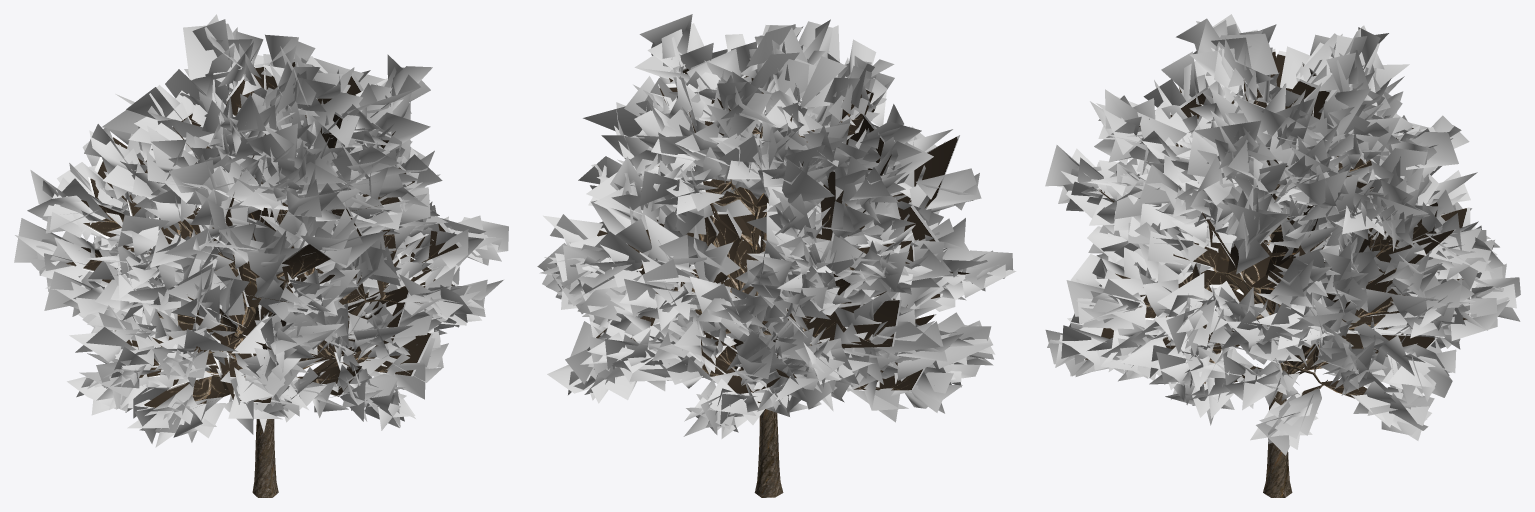
File: Tree03.fbx
The picture shows the model from 3 angles, left to right: view 1: azimuth 30°, elevation 25°; view 2: azimuth 150°, elevation 25°; view 3: azimuth 270°, elevation 25°; orthographic projection. The views are drawn at different scales.
Visible parts, largest first — view 1: Leaf_6, Bark_9; view 2: Leaf_6, Bark_9; view 3: Leaf_6, Bark_9.
Part boxes in pixels (bbox=[...]): Leaf_6: bbox=[14, 14, 508, 447]; Bark_9: bbox=[210, 209, 396, 497]; Leaf_6: bbox=[537, 14, 1016, 438]; Bark_9: bbox=[725, 126, 803, 497]; Leaf_6: bbox=[1045, 14, 1520, 455]; Bark_9: bbox=[1208, 240, 1398, 497].
Bounding box in the file's own units: 7005 × 7535 × 7011.
